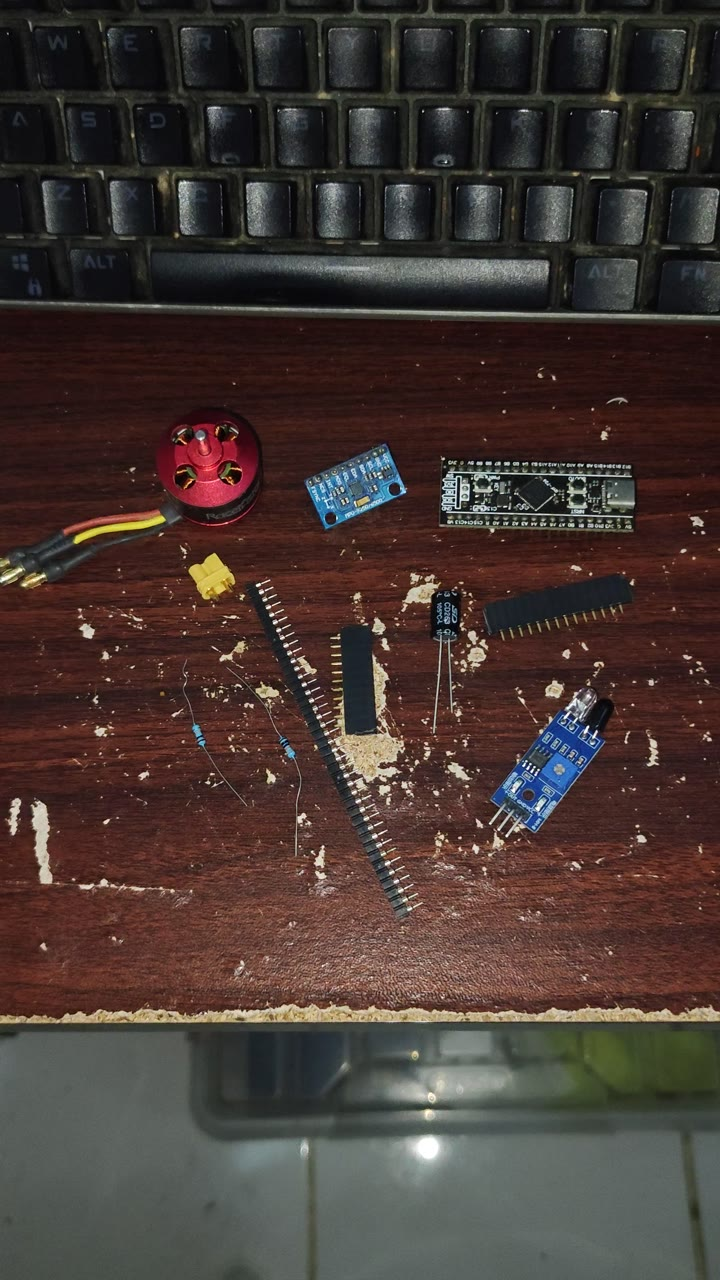bldc_motor: (55, 418, 261, 537)
elco_capacitor: (430, 568, 492, 680)
ir_sensor: (494, 691, 608, 841)
mpu6500: (302, 440, 411, 532)
pin_header: (255, 578, 464, 906), (489, 561, 637, 640), (341, 597, 419, 721)
resistor: (261, 669, 353, 822), (183, 668, 273, 792)
stm32f4: (432, 457, 642, 529)
xt30_female: (188, 551, 247, 601)
